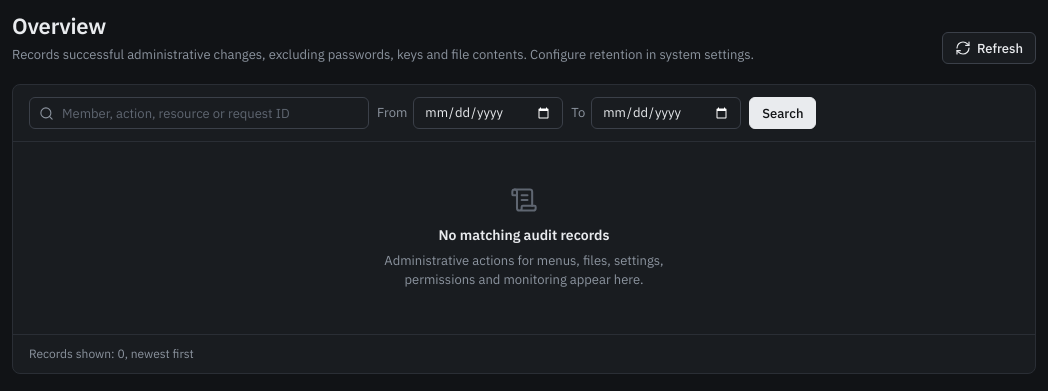
Test: clears audit filters even while a previous query is in flight
Type "old-filter" into the field named "Search audit log" at (199, 113), box x1=29 y1=97 x2=369 y2=129
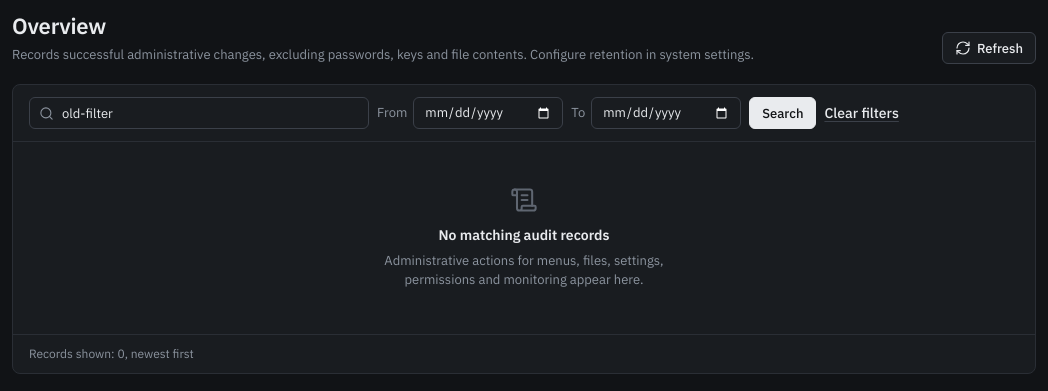
Submit the form named "Search audit log", box x1=13 y1=85 x2=1035 y2=142
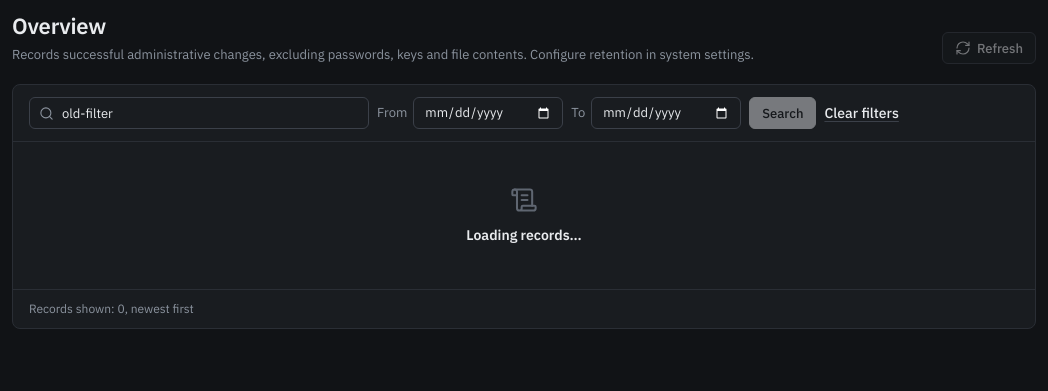
Click the button "Clear filters" at (862, 113), box x1=824 y1=103 x2=899 y2=124
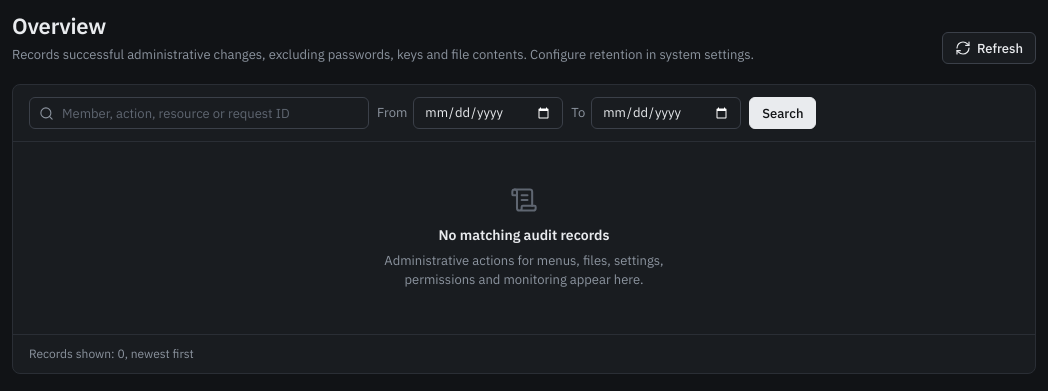
Check: the field named "Search audit log" is empty, box x1=29 y1=97 x2=369 y2=129
